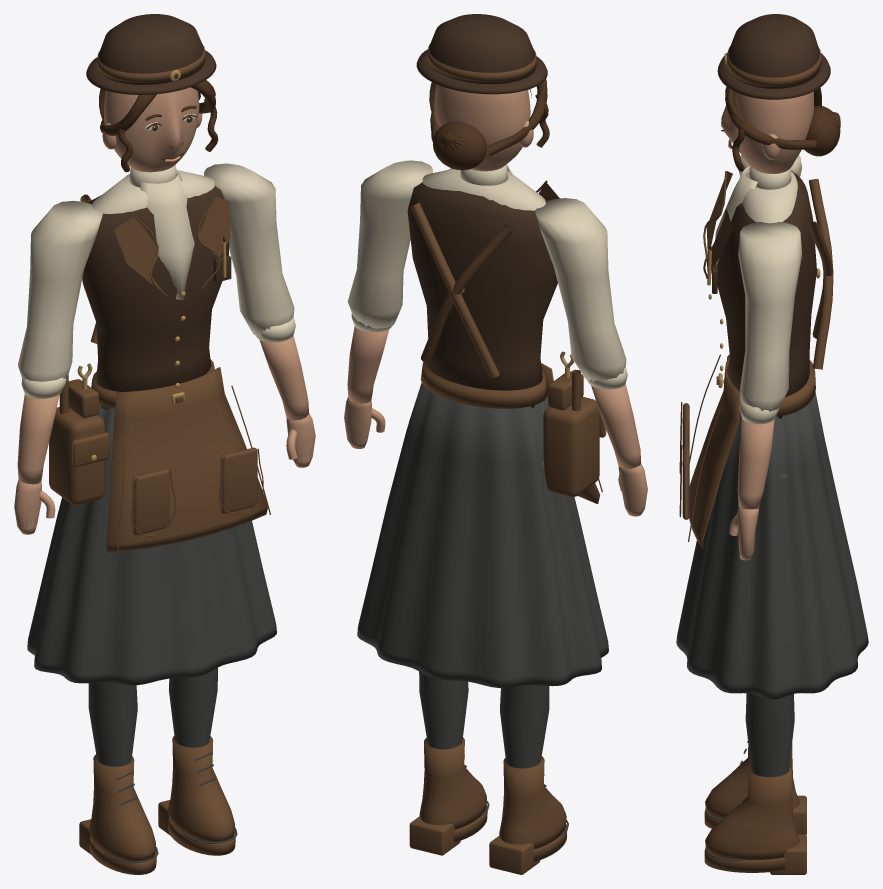
File: nora-v1.glb
3 views of the same model, side by side, from view 1: azimuth 30°, elevation 25°; view 2: azimuth 150°, elevation 25°; view 3: azimuth 270°, elevation 25° (orthographic).
Parts seen in each view (by area): view 1: Nora · charcoal wool, Nora · worn walnut leather, Nora · umber wool and felt, Nora_RightArm · unbleached linen, Nora_LeftArm · unbleached linen, Nora_Head · umber wool and felt, Nora · unbleached linen, Nora_RightLeg · worn walnut leather, Nora_LeftLeg · worn walnut leather, Nora_Head · warm skin, Nora_RightArm · warm skin, Nora_RightLeg · charcoal wool (+5 smaller); view 2: Nora · charcoal wool, Nora · umber wool and felt, Nora · worn walnut leather, Nora_RightArm · unbleached linen, Nora_LeftArm · unbleached linen, Nora_Head · umber wool and felt, Nora_LeftLeg · worn walnut leather, Nora_RightLeg · worn walnut leather, Nora_Head · warm skin, Nora_Head · chestnut hair, Nora_RightLeg · charcoal wool, Nora_RightArm · warm skin (+4 smaller); view 3: Nora · charcoal wool, Nora_LeftArm · unbleached linen, Nora · worn walnut leather, Nora_LeftLeg · worn walnut leather, Nora · umber wool and felt, Nora_Head · umber wool and felt, Nora_Head · warm skin, Nora_LeftLeg · charcoal wool, Nora_LeftArm · warm skin, Nora · unbleached linen, Nora_Head · chestnut hair, Nora_RightLeg · worn walnut leather (+1 smaller).
Part boxes in pixels (left/top/right/bottom): Nora · charcoal wool: left=27, top=405, right=276, bottom=685; Nora · worn walnut leather: left=49, top=194, right=270, bottom=553; Nora · umber wool and felt: left=82, top=186, right=231, bottom=410; Nora_RightArm · unbleached linen: left=18, top=200, right=102, bottom=398; Nora_LeftArm · unbleached linen: left=204, top=163, right=295, bottom=342; Nora_Head · umber wool and felt: left=86, top=14, right=216, bottom=94; Nora · unbleached linen: left=92, top=165, right=214, bottom=299; Nora_RightLeg · worn walnut leather: left=79, top=754, right=156, bottom=874; Nora_LeftLeg · worn walnut leather: left=158, top=736, right=235, bottom=855; Nora_Head · warm skin: left=102, top=87, right=202, bottom=172; Nora_RightArm · warm skin: left=14, top=394, right=59, bottom=534; Nora_RightLeg · charcoal wool: left=88, top=682, right=158, bottom=863; Nora · charcoal wool: left=357, top=383, right=608, bottom=688; Nora · umber wool and felt: left=407, top=182, right=557, bottom=407; Nora · worn walnut leather: left=410, top=168, right=606, bottom=503; Nora_RightArm · unbleached linen: left=535, top=198, right=627, bottom=389; Nora_LeftArm · unbleached linen: left=347, top=160, right=432, bottom=332; Nora_Head · umber wool and felt: left=416, top=14, right=547, bottom=94; Nora_LeftLeg · worn walnut leather: left=409, top=737, right=487, bottom=855; Nora_RightLeg · worn walnut leather: left=489, top=756, right=566, bottom=874; Nora_Head · warm skin: left=434, top=84, right=533, bottom=171; Nora_Head · chestnut hair: left=429, top=79, right=549, bottom=170; Nora_RightLeg · charcoal wool: left=500, top=461, right=568, bottom=844; Nora_RightArm · warm skin: left=591, top=384, right=647, bottom=516; Nora · charcoal wool: left=676, top=391, right=868, bottom=699; Nora_LeftArm · unbleached linen: left=738, top=222, right=802, bottom=424; Nora · worn walnut leather: left=679, top=171, right=833, bottom=548; Nora_LeftLeg · worn walnut leather: left=704, top=766, right=806, bottom=874; Nora · umber wool and felt: left=709, top=170, right=816, bottom=418; Nora_Head · umber wool and felt: left=717, top=14, right=830, bottom=99; Nora_Head · warm skin: left=721, top=91, right=813, bottom=173; Nora_LeftLeg · charcoal wool: left=705, top=473, right=794, bottom=860; Nora_LeftArm · warm skin: left=728, top=417, right=774, bottom=560; Nora · unbleached linen: left=711, top=166, right=797, bottom=278; Nora_Head · chestnut hair: left=721, top=86, right=840, bottom=171; Nora_RightLeg · worn walnut leather: left=704, top=743, right=806, bottom=834.
Size of the model in its own units: 0.608 by 1.59 by 0.337.
